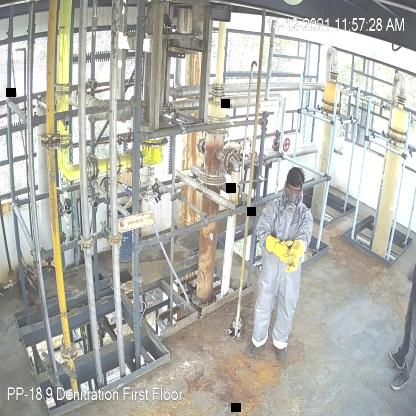goggles: (286, 184, 303, 194)
mask: (284, 192, 299, 212)
